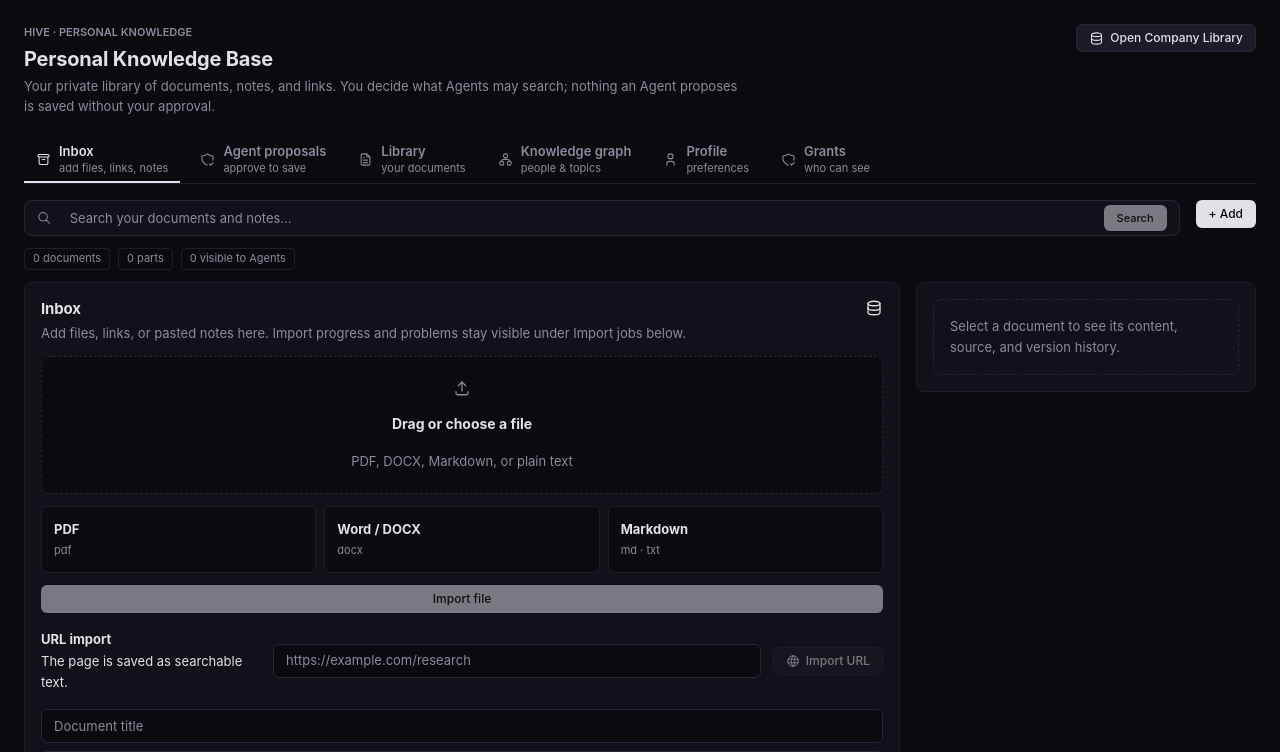
Test: PersonalKnowledge search submission (mounted) › renders an explicit localized empty-result state for a completed search with zero hits
Type "quartz-absent-000" into the field with placeholder "Search your documents and notes..." at (578, 218), box [60,203,1096,234]
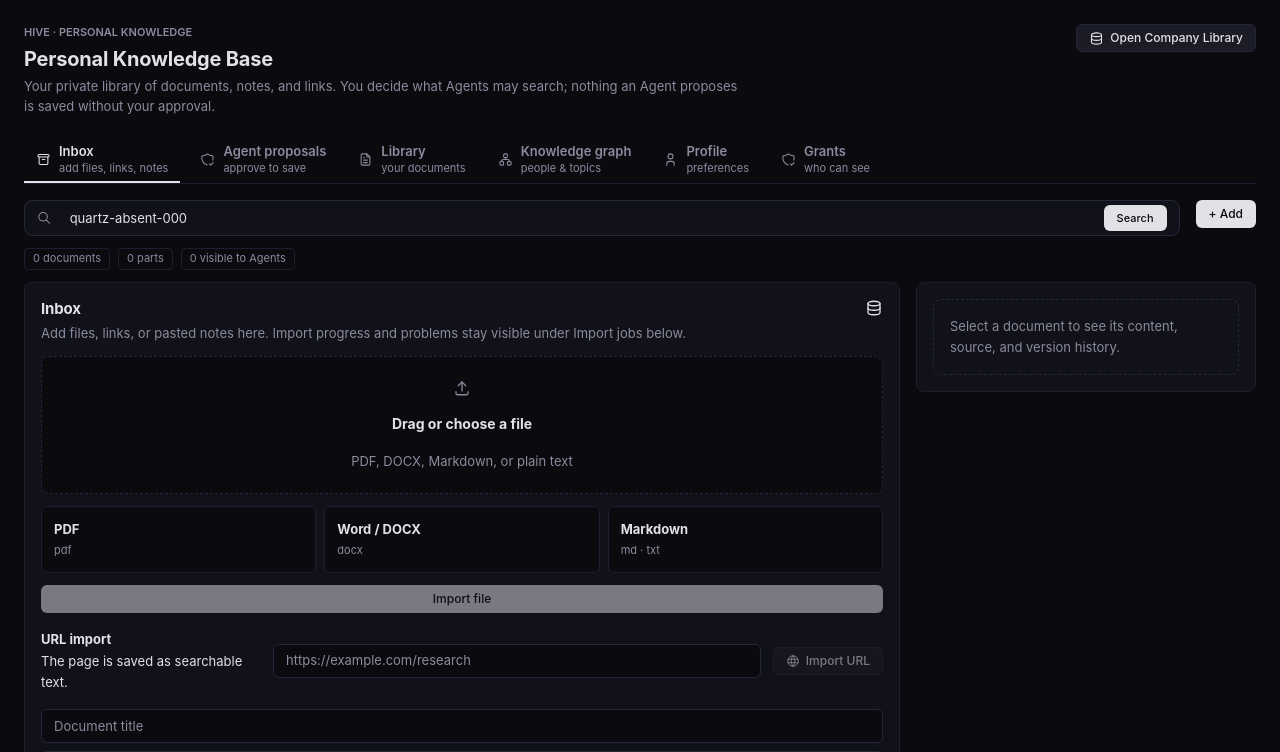
Click the button "Search" at (1135, 218), box [1104,205,1166,231]
(page scrolled)
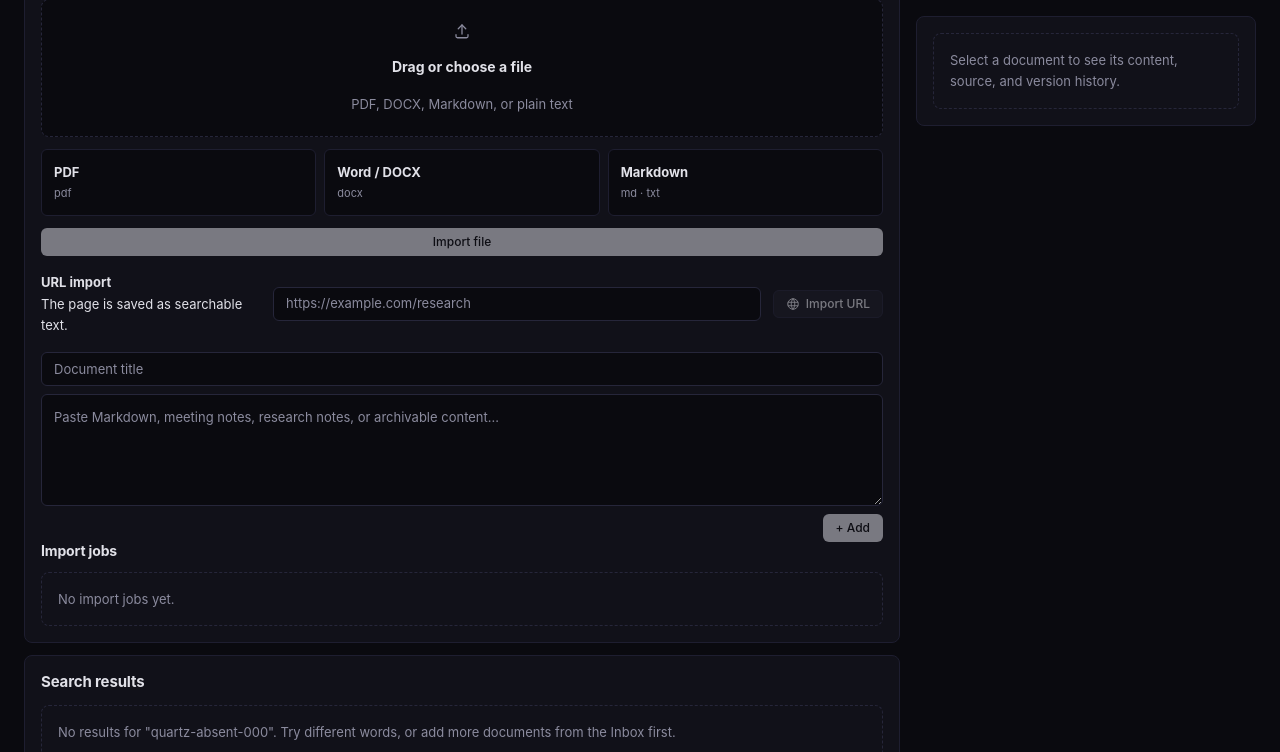
Now the heading "Search results" is shown, box [41,672,144,693]
Now the text "No results for \"quartz-absent-000\"" is shown, box [58,724,676,740]
